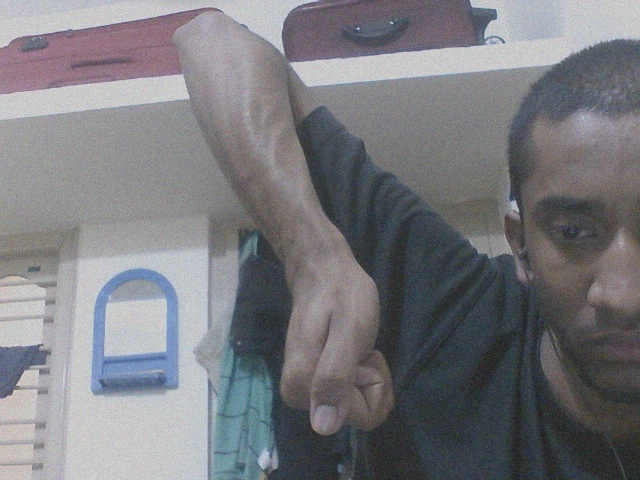hand: (273, 255, 400, 437)
